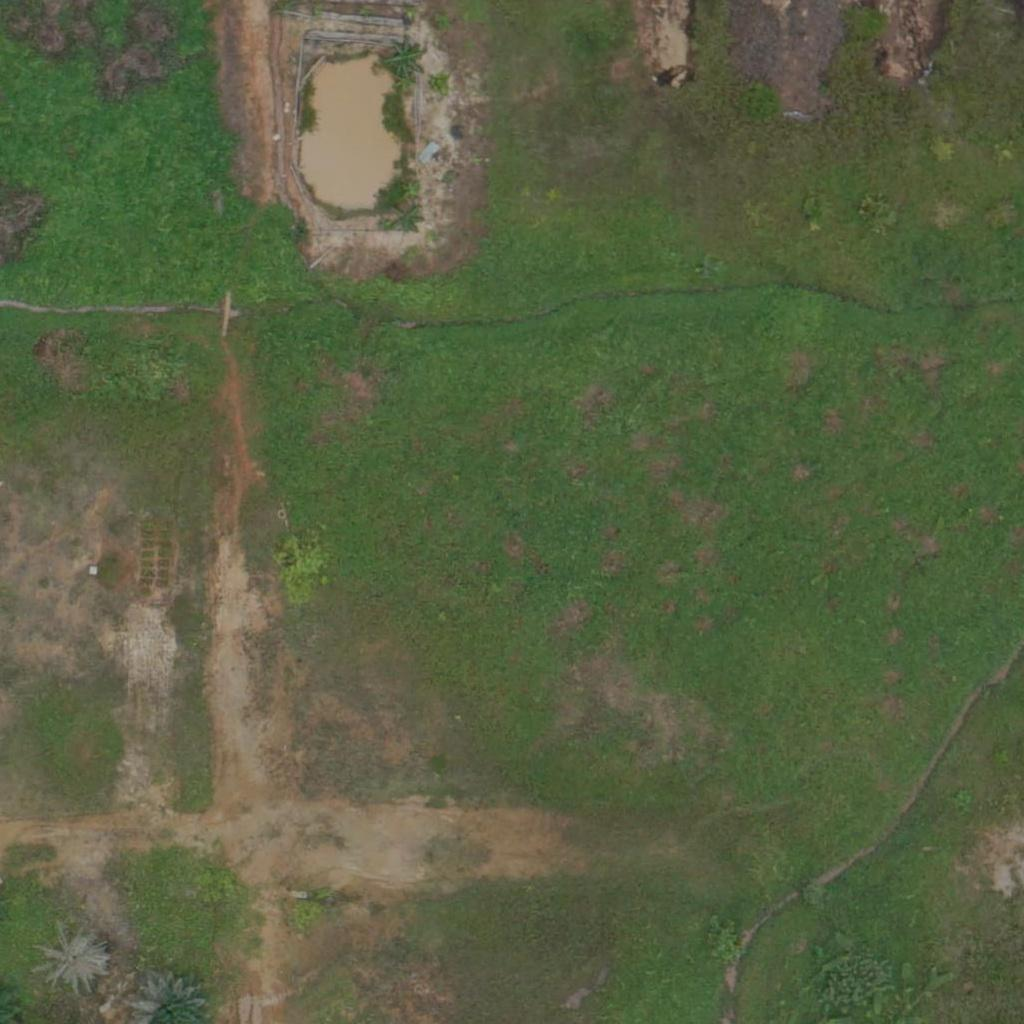Kelapa_Sawit: (35, 921, 110, 997)
